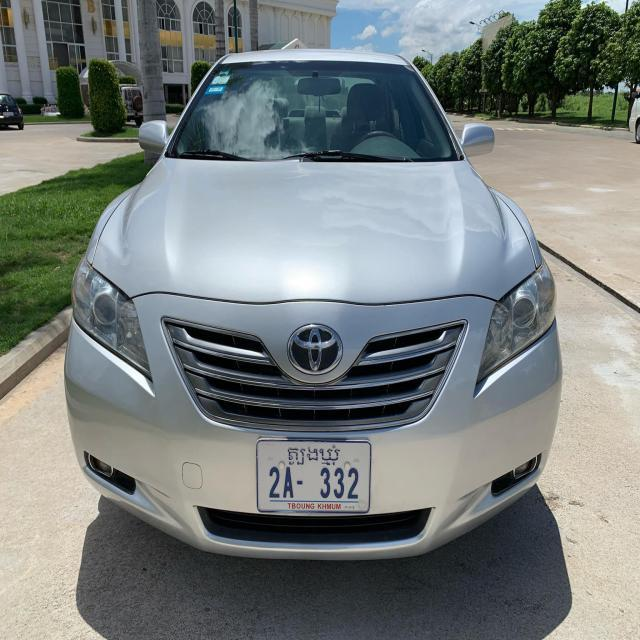Tboung_Khmum: (284, 442, 344, 468)
